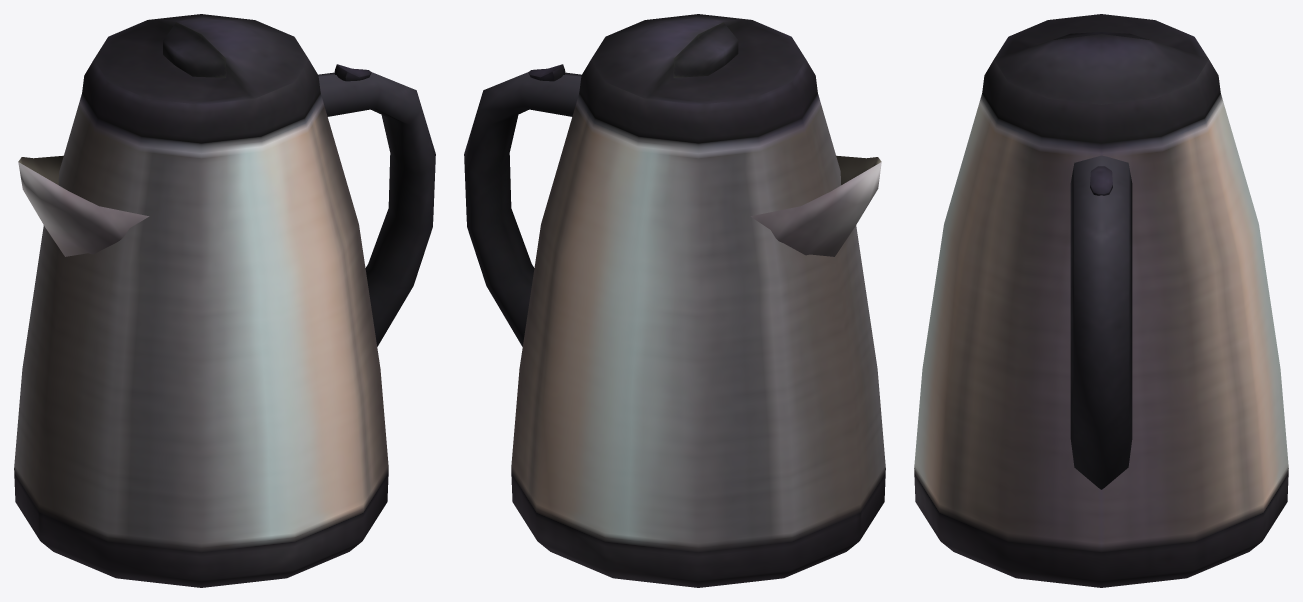
File: XiuXiShi_01_shaoshuihu_01.FBX
The picture shows the model from 3 angles, left to right: view 1: azimuth 30°, elevation 25°; view 2: azimuth 150°, elevation 25°; view 3: azimuth 270°, elevation 25°; orthographic projection.
Parts seen in each view (by area): view 1: XiuXiShi_shaoshuihu; view 2: XiuXiShi_shaoshuihu; view 3: XiuXiShi_shaoshuihu.
Part boxes in pixels (left/top/right/bottom): XiuXiShi_shaoshuihu: left=14, top=14, right=435, bottom=587; XiuXiShi_shaoshuihu: left=464, top=14, right=885, bottom=587; XiuXiShi_shaoshuihu: left=914, top=14, right=1288, bottom=587.
Size of the model in its own units: 127 by 139 by 98.32.
